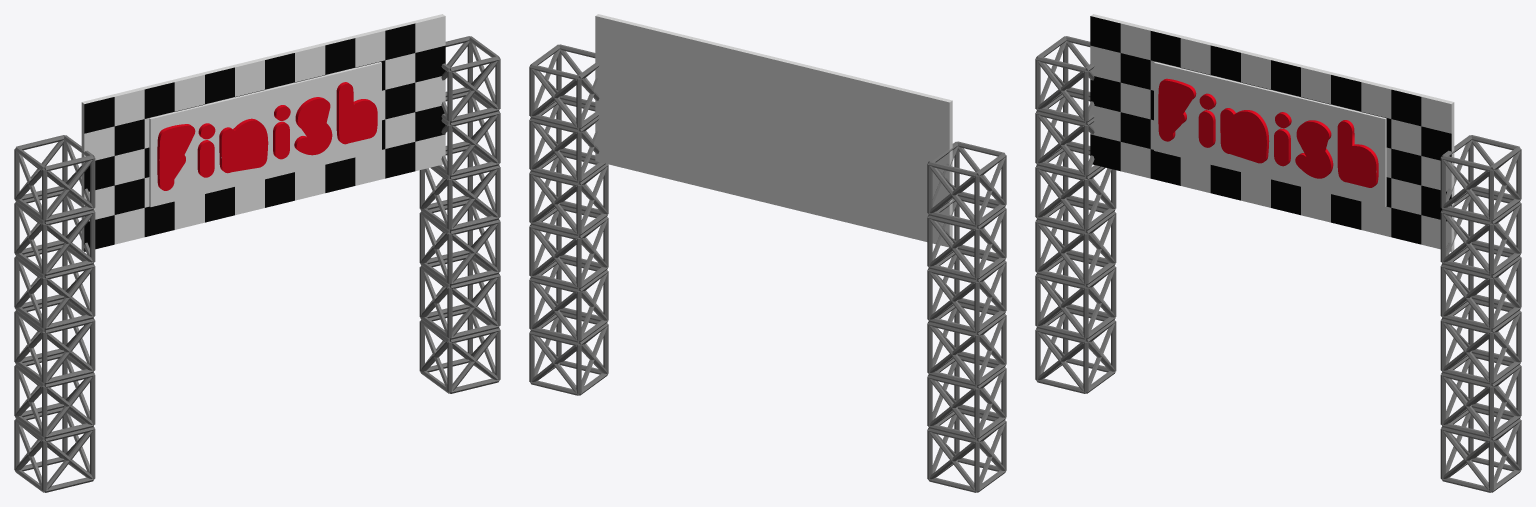
Rendered from finishline.fbx.
3 renders of one model, left to right at view 1: azimuth 30°, elevation 25°; view 2: azimuth 150°, elevation 25°; view 3: azimuth 330°, elevation 25°, orthographic.
Visible parts, largest first — view 1: Text.004; view 2: Text.004; view 3: Text.004.
Part boxes in pixels (x1,y1,x2,y2): Text.004: [14, 14, 500, 492]; Text.004: [529, 14, 1006, 492]; Text.004: [1035, 14, 1521, 492].
Bounding box in the file's own units: 9.59 × 7.45 × 1.1.
